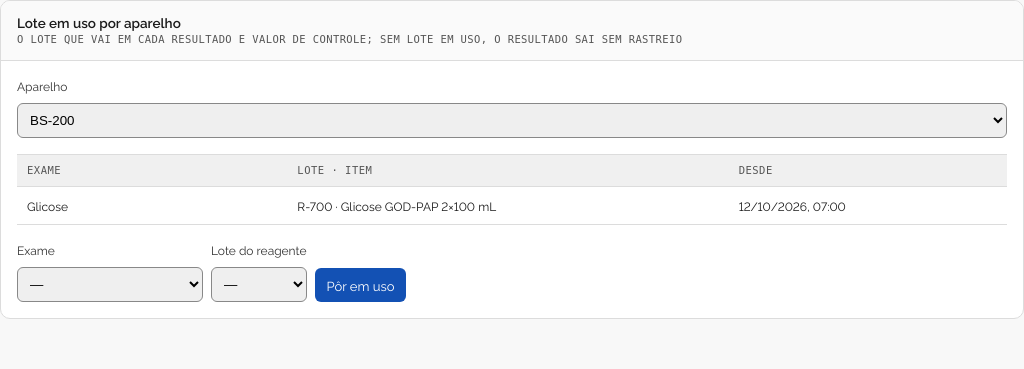
Test: InUsePanel › sem lote de reagente do exame com saldo e validade: avisa e não oferece lote
The width and height of the screenshot is (1024, 369).
expect the text "R-700 · Glicose GOD-PAP 2×100 mL" is shown: met, box [297,197,496,214]
Select "Glicose" in the dropdown labelled "Exame" at (110, 284), box [17,267,203,302]
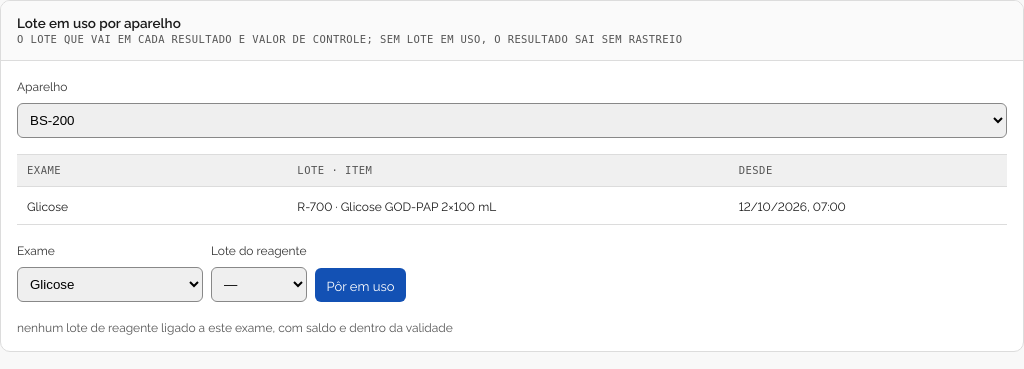
expect the text "nenhum lote de reagente ligado a este exame, com saldo e dentro da validade" is shown: met, box [17,318,453,335]
